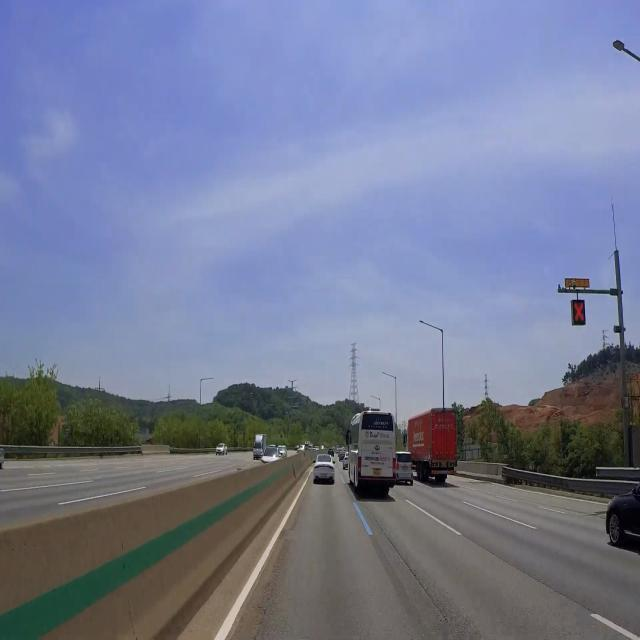car: (372, 467, 383, 477), (401, 465, 409, 470), (441, 461, 447, 467), (320, 473, 327, 478)
